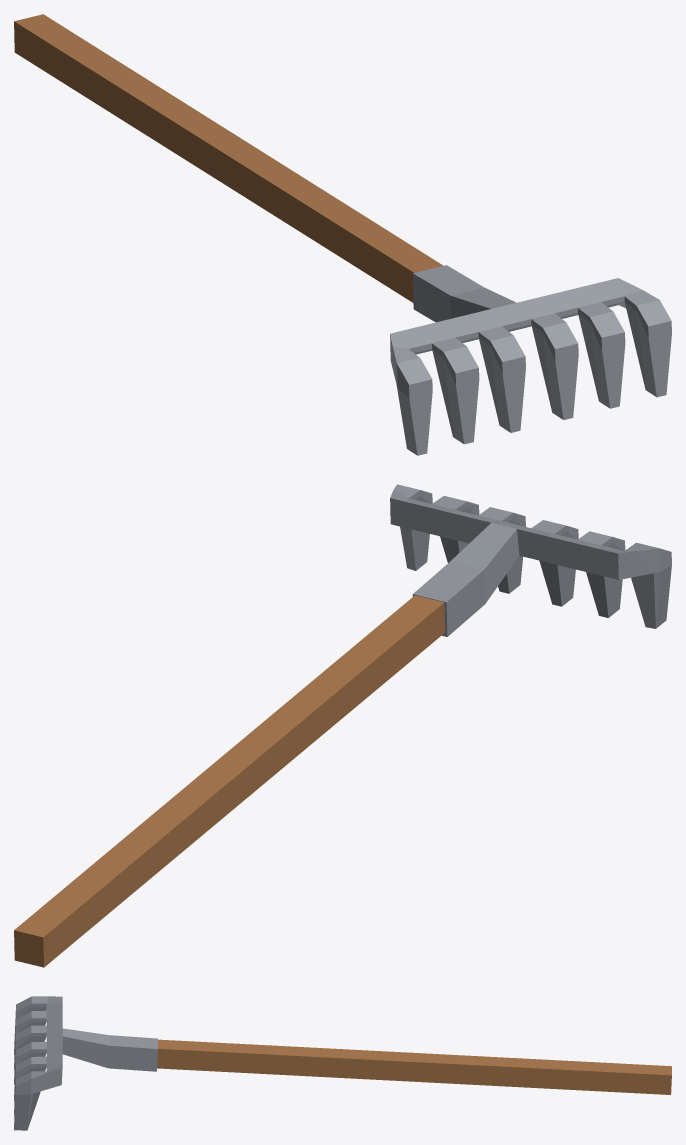
The model's file is Tırgen.fbx.
3 views of the same model, one above another, from view 1: azimuth 30°, elevation 25°; view 2: azimuth 150°, elevation 25°; view 3: azimuth 270°, elevation 25° (orthographic). The views are drawn at different scales.
Parts seen in each view (by area): view 1: Tırgen; view 2: Tırgen; view 3: Tırgen.
Part boxes in pixels (bbox=[...]): Tırgen: bbox=[14, 14, 671, 455]; Tırgen: bbox=[14, 484, 671, 967]; Tırgen: bbox=[14, 996, 671, 1130].
Bounding box in the file's own units: 177 × 59.75 × 599.
